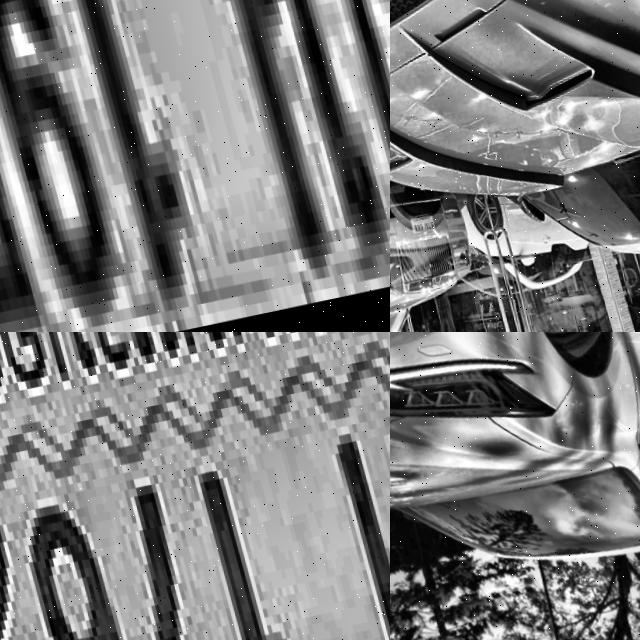license-plate: (0, 0, 390, 332), (0, 332, 390, 640)
